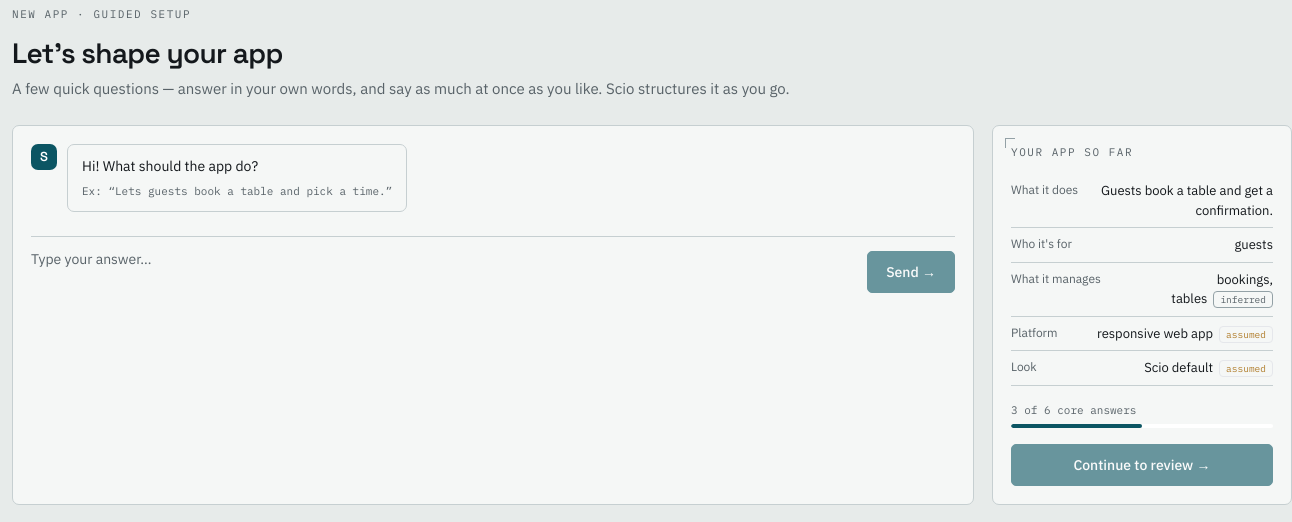
Test case: Wizard › sends a turn and renders the next question with its example
In the text box labelled "your answer": (445, 271) [31,249,859,293], type "A booking app for my restaurant."
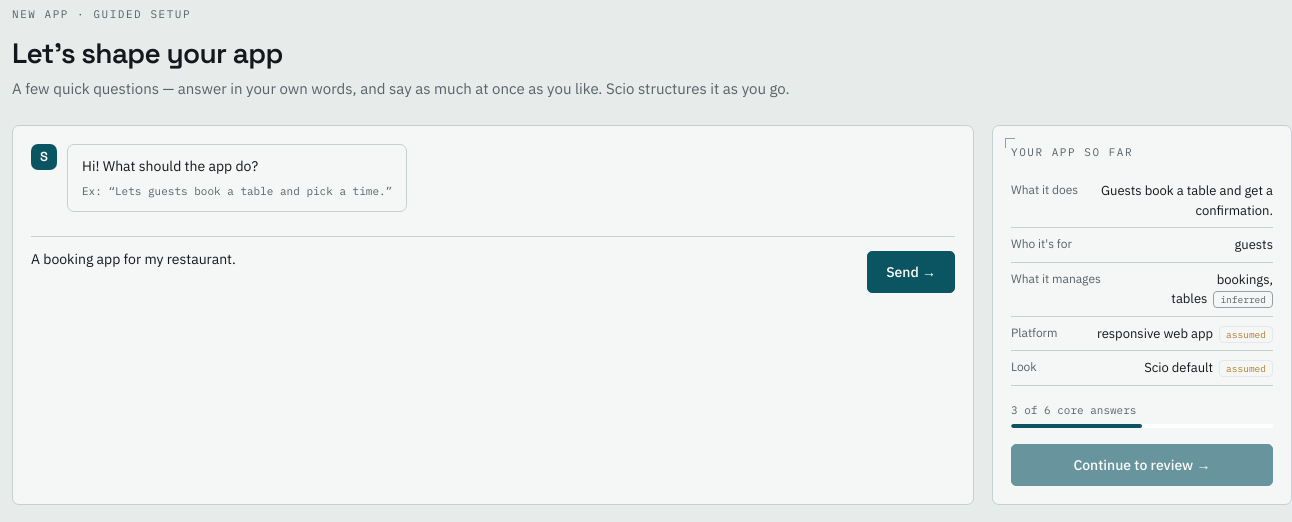
Click the button "Send →": (911, 272) [867,251,955,293]
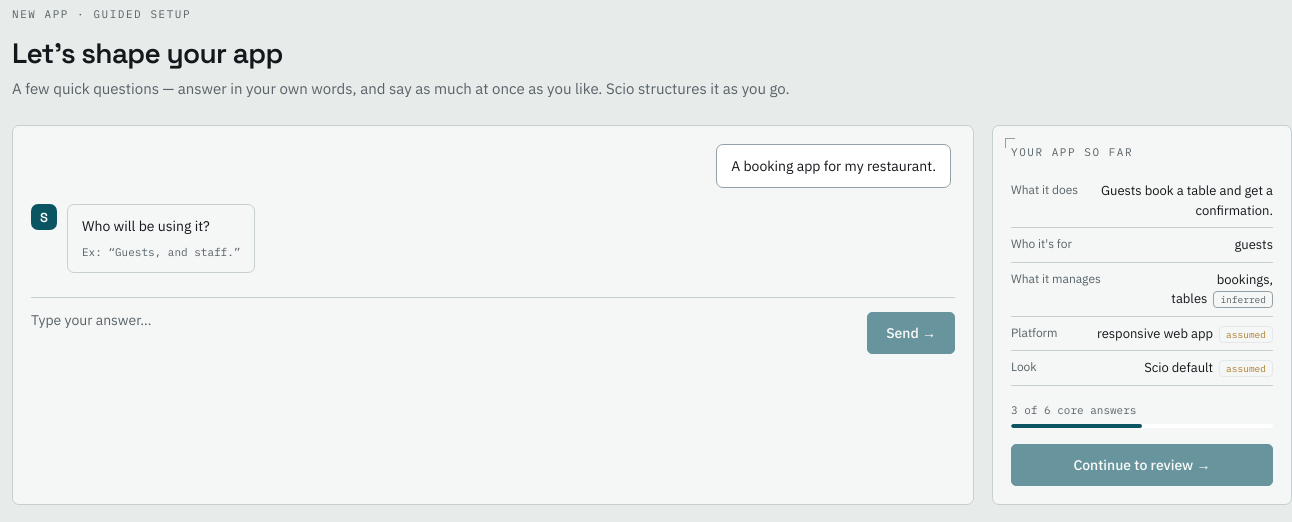
Expected: the text "Who will be using it?" is shown, [82,217,210,235]
Expected: the text "Ex: “Guests, and staff.”" is shown, [82,244,240,262]
